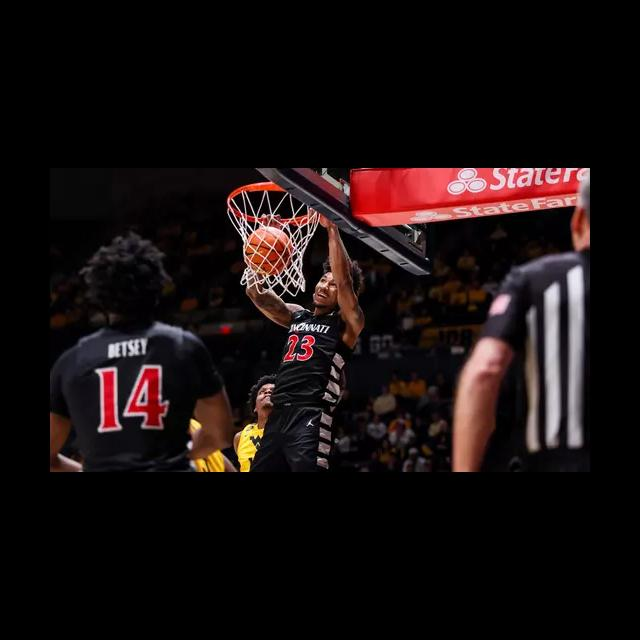basketball: (244, 225, 293, 275)
hoop: (226, 181, 318, 295)
